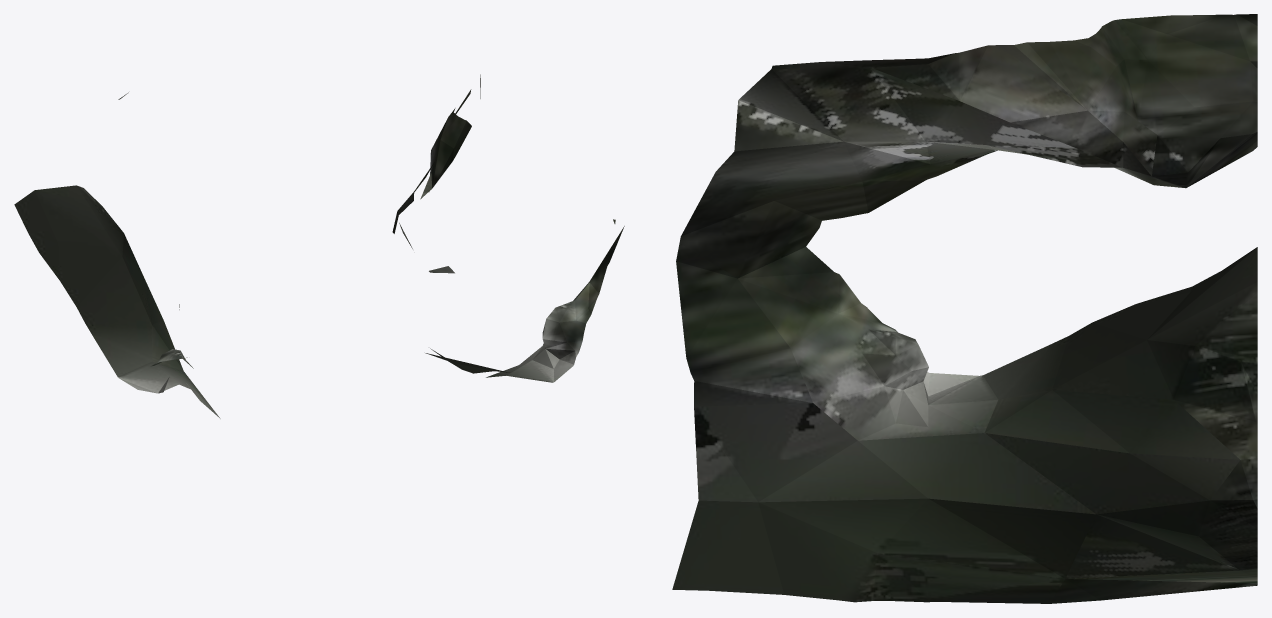
The picture shows the model from 3 angles, left to right: view 1: azimuth 30°, elevation 25°; view 2: azimuth 150°, elevation 25°; view 3: azimuth 270°, elevation 25°; orthographic projection. The views are drawn at different scales.
Size of the model in its own units: 0.4973 by 1.67 by 1.55.
Materials: 2 (2 with a texture image).
